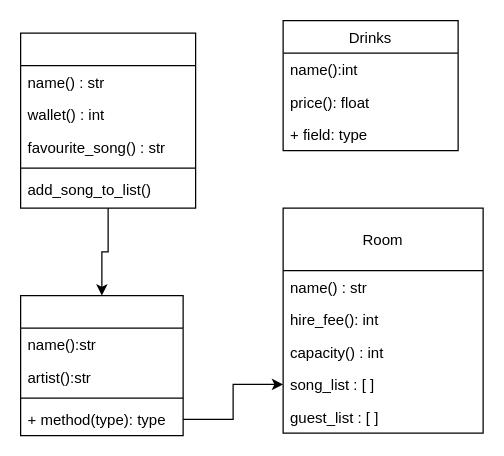
The diagram is 504 pixels wide and 456 high, and some of its shapes have lost their labels. Here are the shapes that lost their labels. From the top down, the box of each, then its label:
(19, 32, 196, 208): Guest
(19, 294, 183, 436): Song
